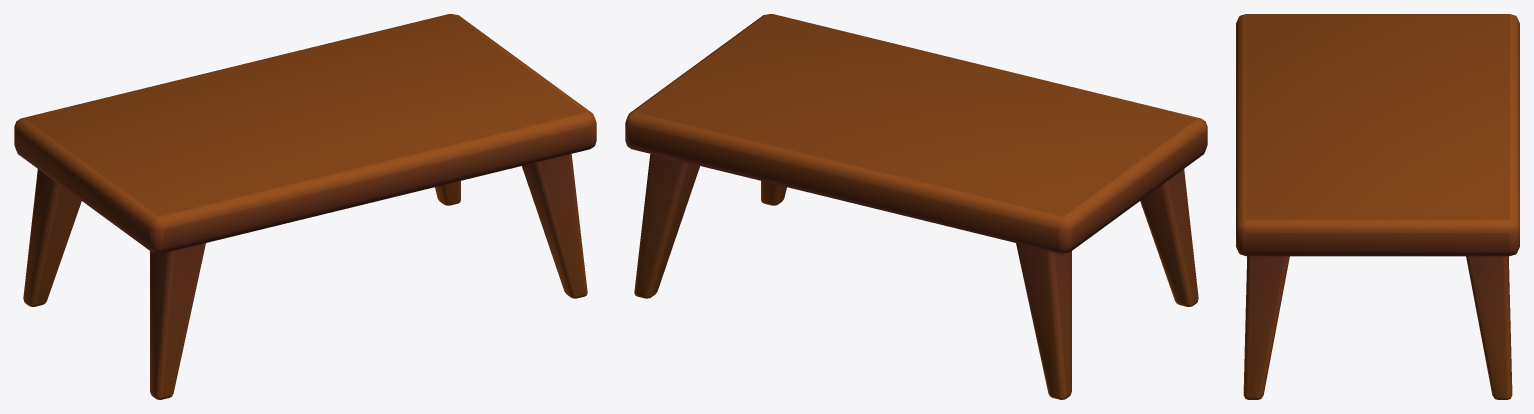
Rendered from table.fbx.
3 renders of one model, left to right at view 1: azimuth 30°, elevation 25°; view 2: azimuth 150°, elevation 25°; view 3: azimuth 270°, elevation 25°, orthographic.
Parts seen in each view (by area): view 1: table; view 2: table; view 3: table.
Boxes of the visible parts, <box> form: table: <box>14,14,596,399</box>; table: <box>625,14,1207,399</box>; table: <box>1236,14,1519,399</box>.
Size of the model in its own units: 504 by 200 by 283.
